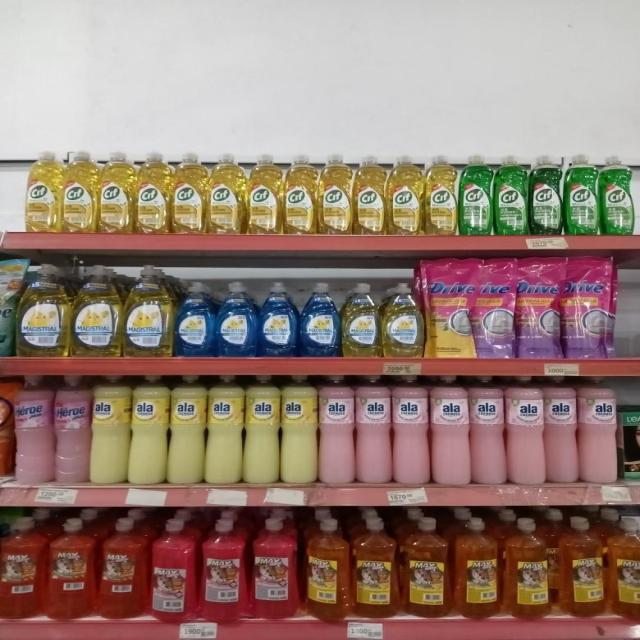ala_crem_amarillo: (91, 374, 129, 484), (131, 374, 168, 485), (170, 374, 206, 486), (207, 374, 243, 485), (244, 374, 280, 485), (281, 374, 317, 484)
ala_crem_rosado: (579, 375, 620, 485), (430, 374, 469, 488), (506, 375, 544, 487), (392, 374, 428, 486), (319, 374, 355, 485), (356, 374, 391, 486), (470, 374, 505, 486), (544, 376, 578, 485)
cif_conc_bot_amarilla: (208, 151, 245, 235), (24, 150, 61, 233), (62, 149, 98, 234), (99, 150, 135, 233), (387, 154, 423, 236), (136, 150, 171, 234), (172, 152, 207, 234), (247, 153, 282, 235), (319, 152, 353, 235), (424, 154, 457, 235), (284, 153, 317, 234), (354, 154, 386, 235)
cif_conc_botella_verde: (564, 153, 599, 235), (459, 154, 493, 235), (494, 154, 528, 235), (529, 154, 562, 235), (601, 154, 633, 235)
drive: (562, 256, 611, 359), (517, 256, 560, 360), (473, 257, 515, 359)
heroe: (13, 373, 53, 485), (54, 373, 90, 485), (0, 373, 12, 481)
magistral_con_amarillo: (17, 264, 70, 357), (72, 264, 122, 358), (124, 264, 173, 358), (382, 281, 423, 358), (342, 281, 380, 358)
magistral_con_azul: (176, 280, 216, 358), (216, 280, 256, 358), (300, 281, 340, 357), (259, 280, 297, 358)
